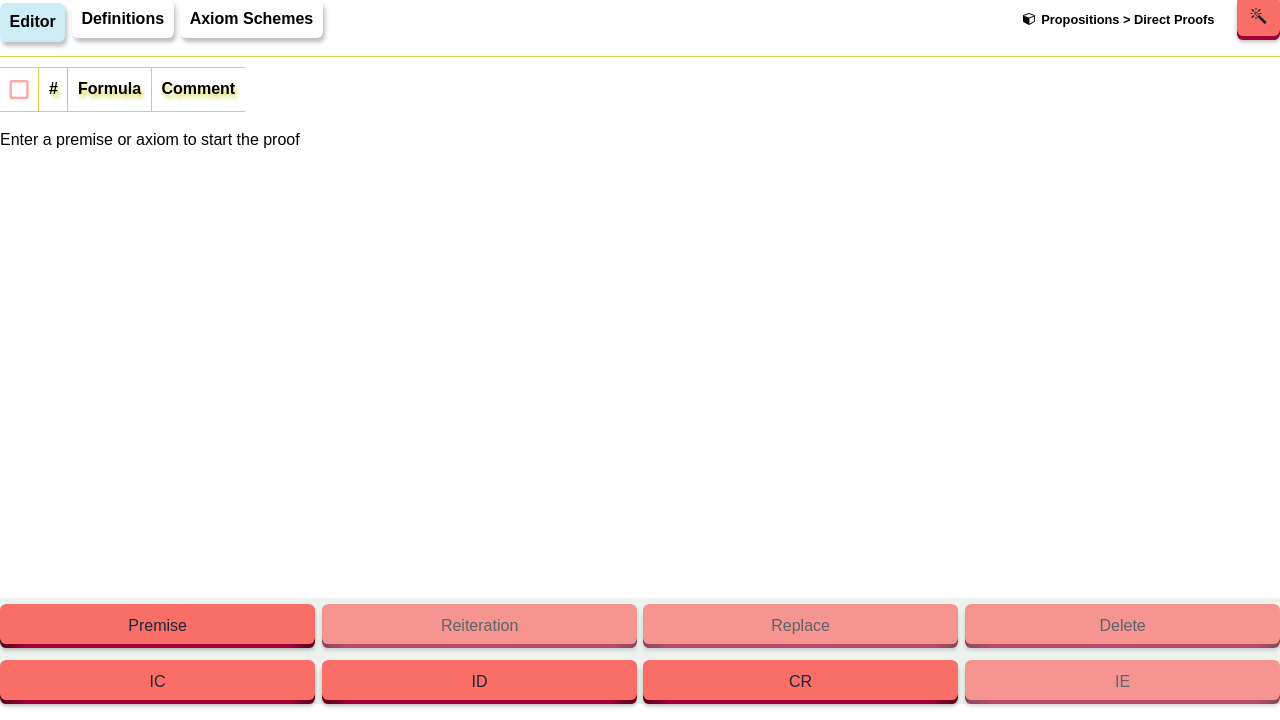
Test: Direct Proofs Editor tests: › on click Implication Distribution button the popup is appeared
Step 1. Click the button titled "Implication Distribution" → {"x": 479, "y": 684}, box [322,664,637,704]
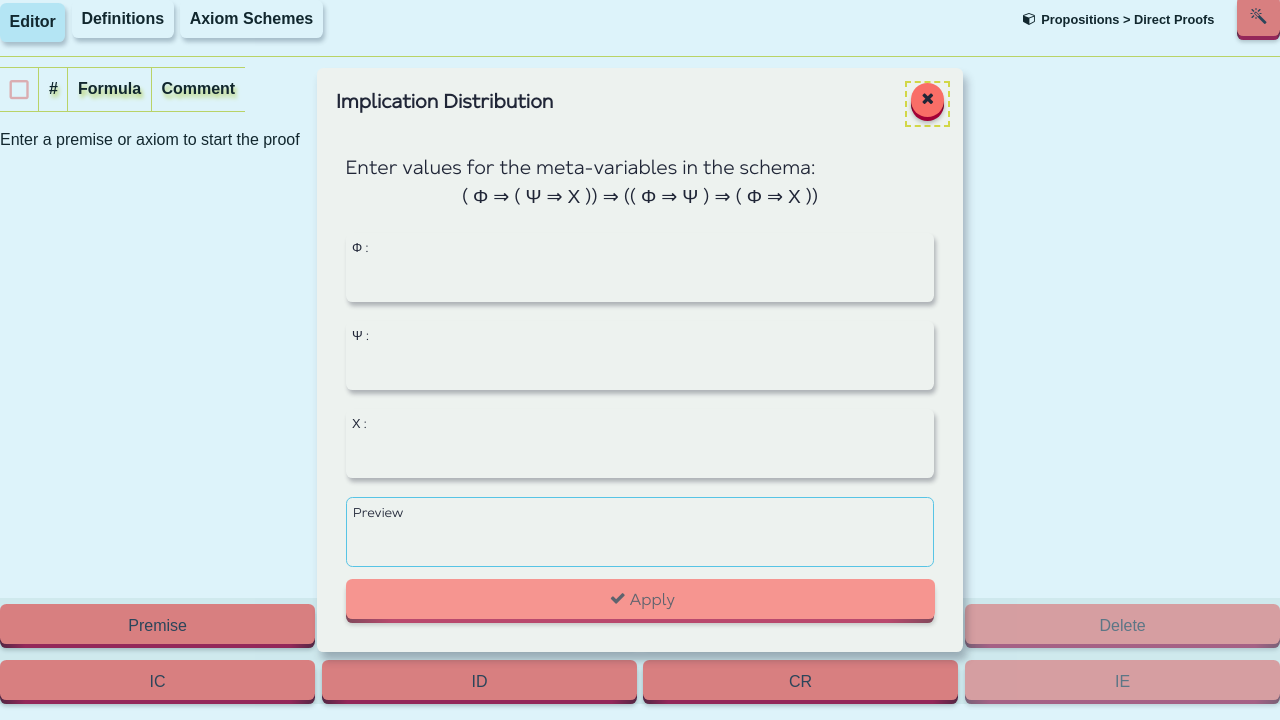
Check: the dialog is shown, box [317,68,963,652]
Check: the form is shown, box [346,233,934,623]
